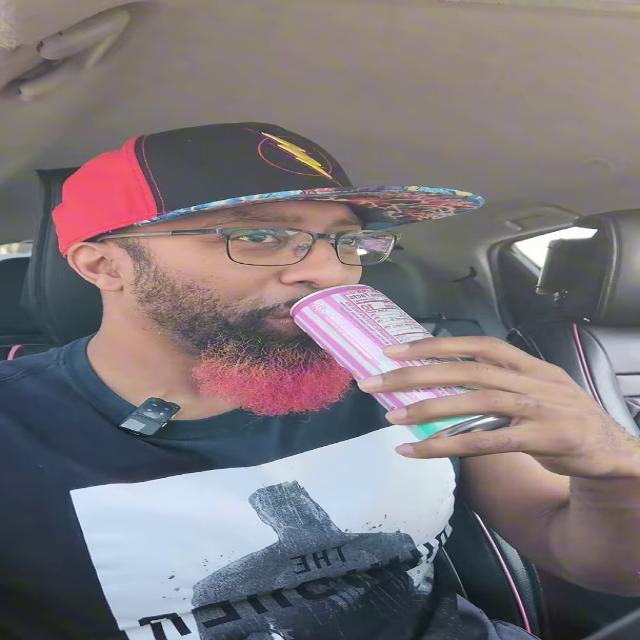Can: (288, 287, 511, 440)
Hand: (356, 334, 611, 464)
Mouth: (255, 300, 365, 329)
